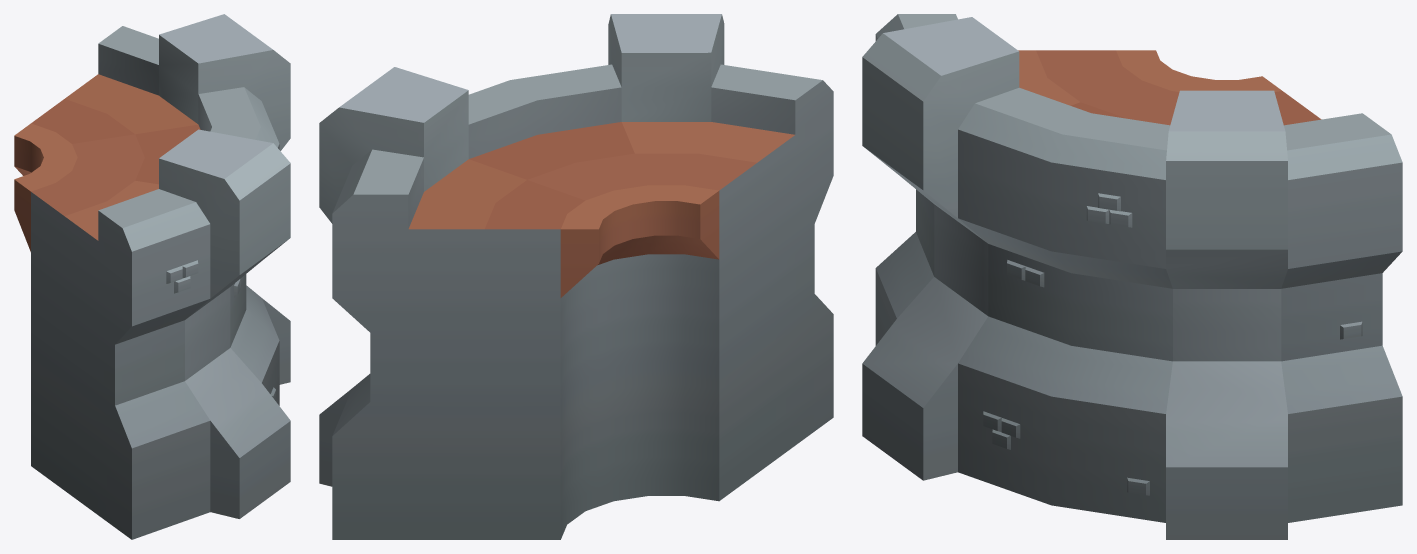
Rendered from wall_corner_b_outside.glb.
The picture shows the model from 3 angles, left to right: view 1: azimuth 30°, elevation 25°; view 2: azimuth 150°, elevation 25°; view 3: azimuth 270°, elevation 25°; orthographic projection. The views are drawn at different scales.
Parts seen in each view (by area): view 1: wall_corner_B_outside; view 2: wall_corner_B_outside; view 3: wall_corner_B_outside.
Boxes of the visible parts, x1,y1,x2,y2 form: wall_corner_B_outside: (14, 14, 290, 539); wall_corner_B_outside: (319, 14, 833, 539); wall_corner_B_outside: (862, 14, 1402, 539).
Bounding box in the file's own units: 0.964 × 1.1 × 1.35.
Materials: 1 (1 with a texture image).
